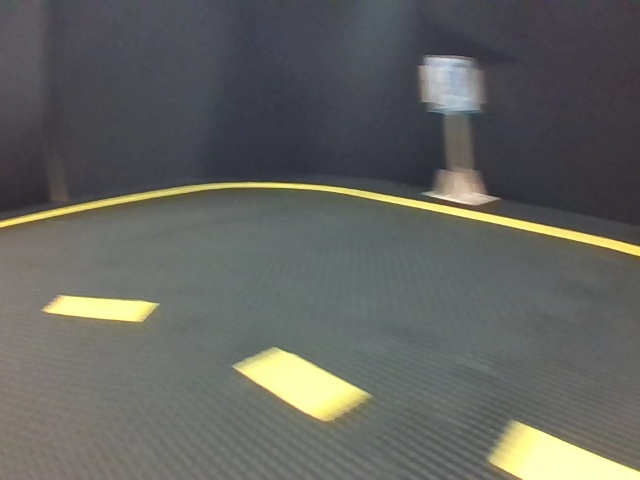no30: (426, 56, 479, 110)
